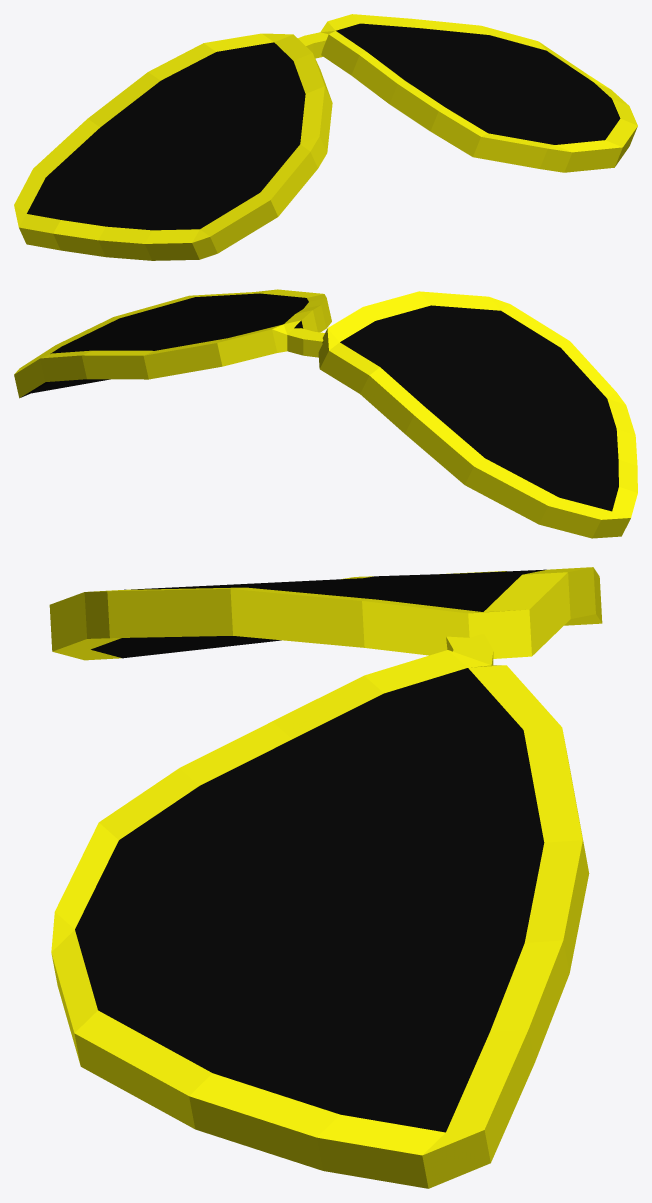
The model's file is sun_glass_star.fbx.
3 renders of one model, top to bottom at view 1: azimuth 30°, elevation 25°; view 2: azimuth 150°, elevation 25°; view 3: azimuth 270°, elevation 25°, orthographic. The views are drawn at different scales.
Visible parts, largest first — view 1: Sun_glass.001; view 2: Sun_glass.001; view 3: Sun_glass.001.
Part boxes in pixels (x1,y1,x2,y2): Sun_glass.001: [14, 14, 637, 260]; Sun_glass.001: [14, 289, 637, 538]; Sun_glass.001: [49, 567, 602, 1188].
Size of the model in its own units: 222 by 51.89 by 90.12.
